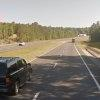Car: (1, 44, 37, 97)
